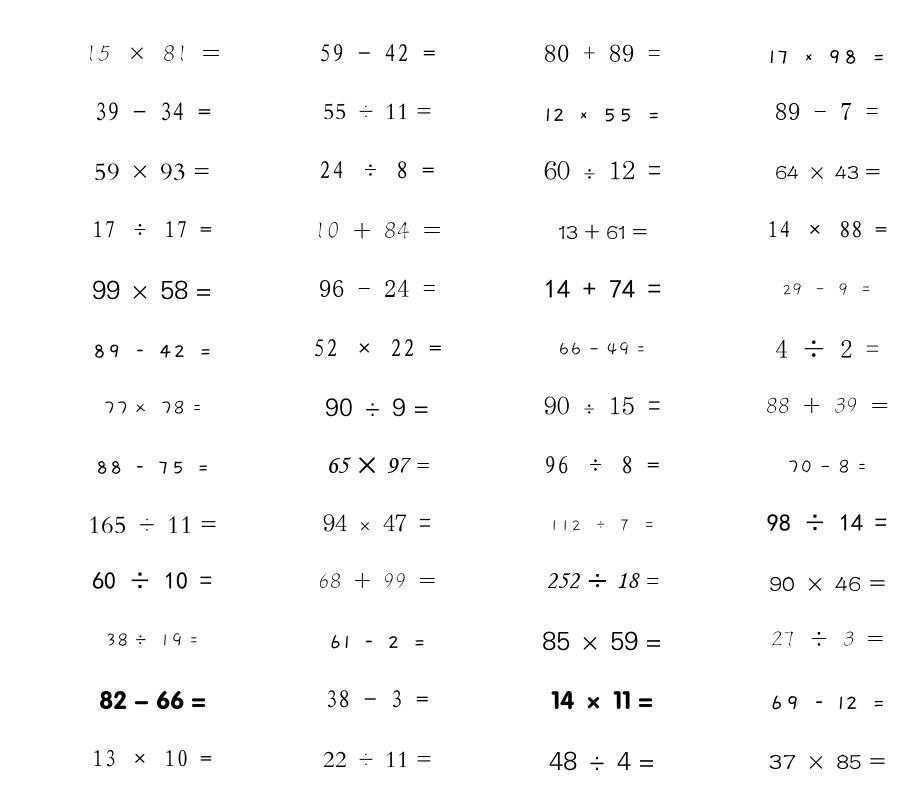MQ: (92, 280, 212, 300), (542, 631, 662, 651), (544, 160, 661, 180), (313, 339, 442, 357), (88, 516, 217, 534), (85, 45, 220, 62), (314, 221, 441, 239), (94, 102, 211, 121), (544, 279, 661, 298), (544, 396, 661, 415), (92, 220, 212, 238), (767, 220, 887, 238), (92, 572, 212, 590), (92, 749, 212, 767), (99, 690, 206, 710), (549, 751, 655, 771), (319, 44, 436, 62), (544, 44, 661, 62), (319, 279, 436, 297), (94, 163, 210, 181), (319, 161, 435, 179), (544, 456, 660, 474), (767, 514, 887, 531), (551, 690, 653, 710), (325, 398, 429, 417), (766, 397, 889, 413), (323, 514, 431, 532), (546, 572, 659, 589), (775, 340, 879, 358), (769, 576, 886, 592), (325, 690, 429, 708), (323, 103, 432, 120), (771, 631, 884, 647), (768, 49, 886, 64), (318, 573, 436, 588), (775, 103, 879, 120), (769, 695, 886, 710), (769, 754, 886, 769), (326, 457, 429, 474), (323, 751, 432, 767), (92, 344, 212, 358), (544, 108, 661, 122), (775, 165, 880, 180), (95, 461, 210, 474), (103, 400, 202, 415), (558, 224, 647, 240), (549, 519, 656, 532), (328, 635, 426, 649), (105, 633, 199, 647), (558, 342, 646, 356), (787, 459, 867, 474), (782, 283, 872, 296)
